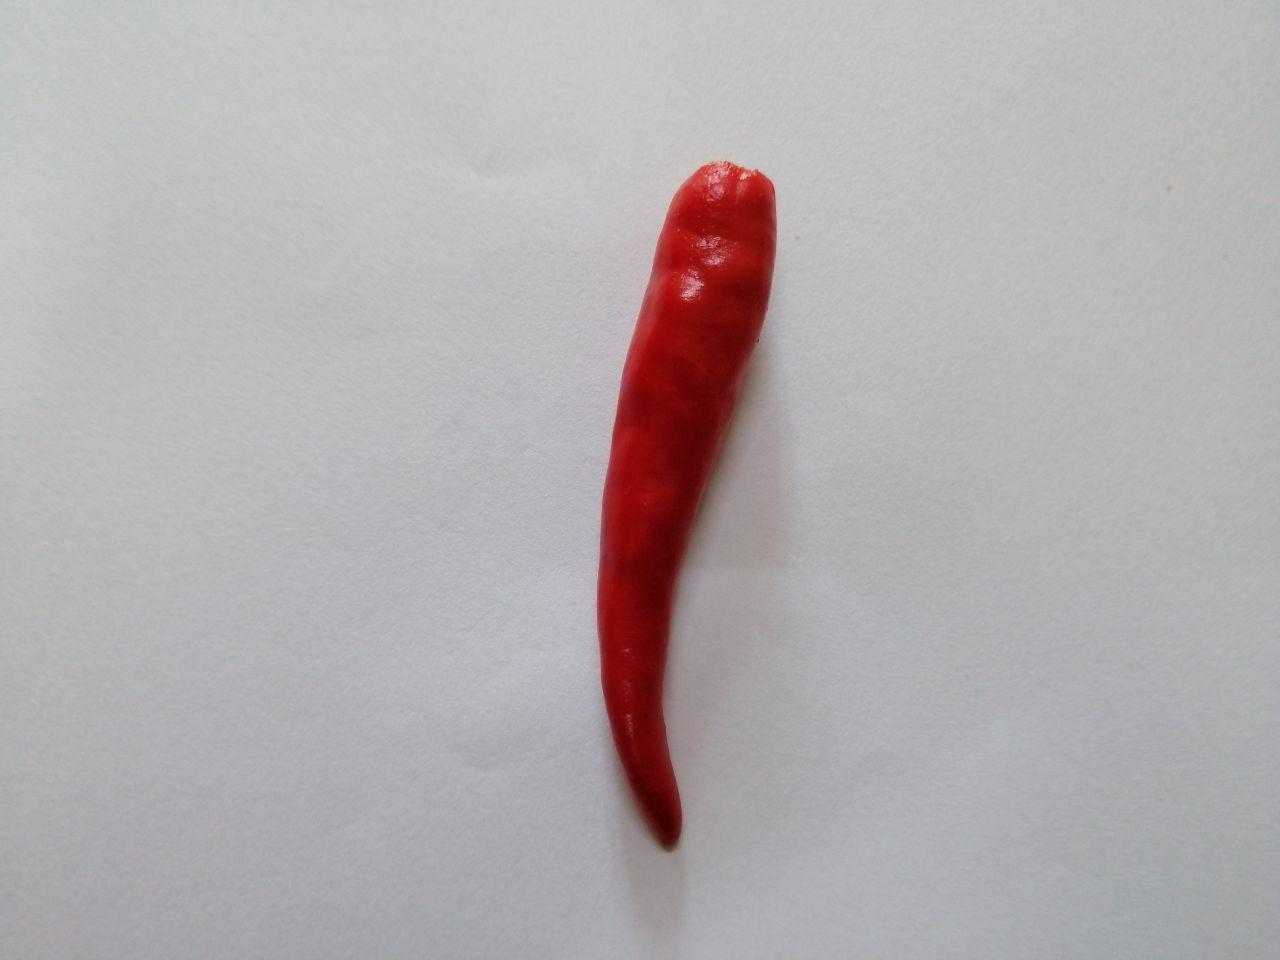lada merah: (591, 149, 791, 875)
